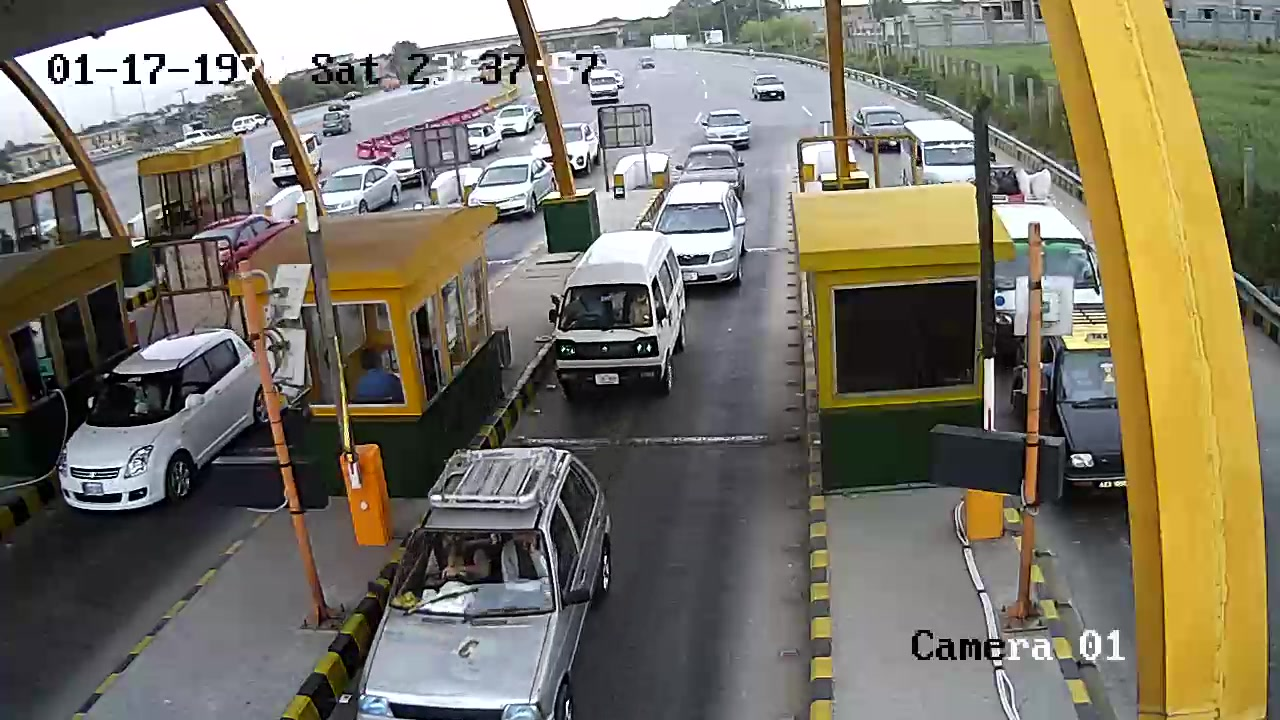F1: (549, 225, 686, 412)
